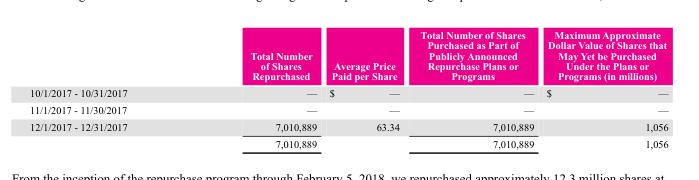table: (29, 28, 667, 148)
table column: (29, 28, 188, 148), (188, 28, 322, 148), (409, 28, 539, 148), (539, 28, 667, 148), (322, 28, 409, 148)
table column header: (29, 28, 667, 84)
table row: (29, 28, 667, 84), (29, 84, 667, 101), (29, 117, 667, 134), (29, 101, 667, 117), (29, 134, 667, 148)
